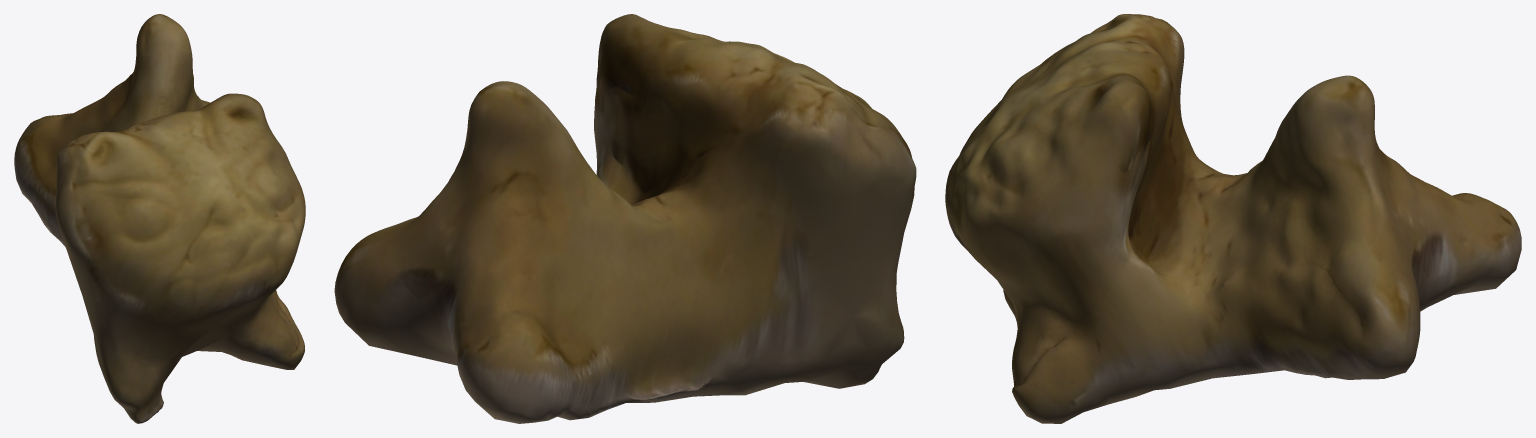
3 renders of one model, left to right at view 1: azimuth 30°, elevation 25°; view 2: azimuth 150°, elevation 25°; view 3: azimuth 270°, elevation 25°, orthographic. The views are drawn at different scales.
Bounding box in the file's own units: 0.4 × 0.3516 × 0.5179.
Materials: 1 (1 with a texture image).
